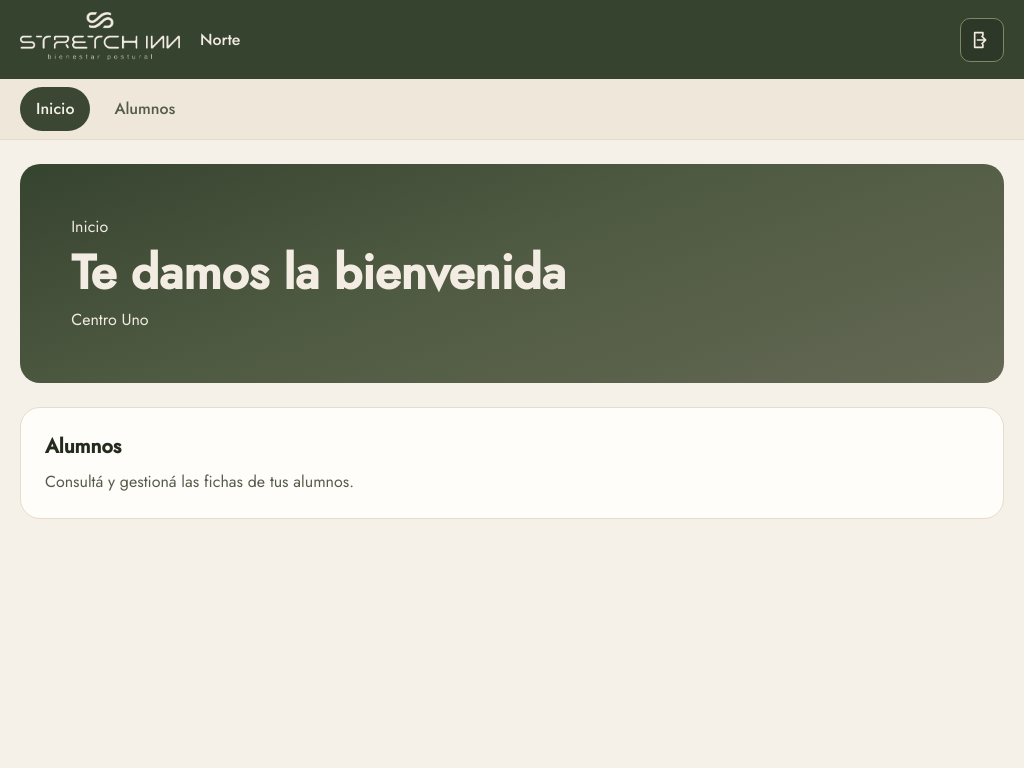
Test: lista › quien edita sin personas.dar-de-baja tiene «Editar», sin «Dar de baja»
The width and height of the screenshot is (1024, 768).
Click the link "Alumnos": (145,109) x1=114 y1=97 x2=175 y2=120
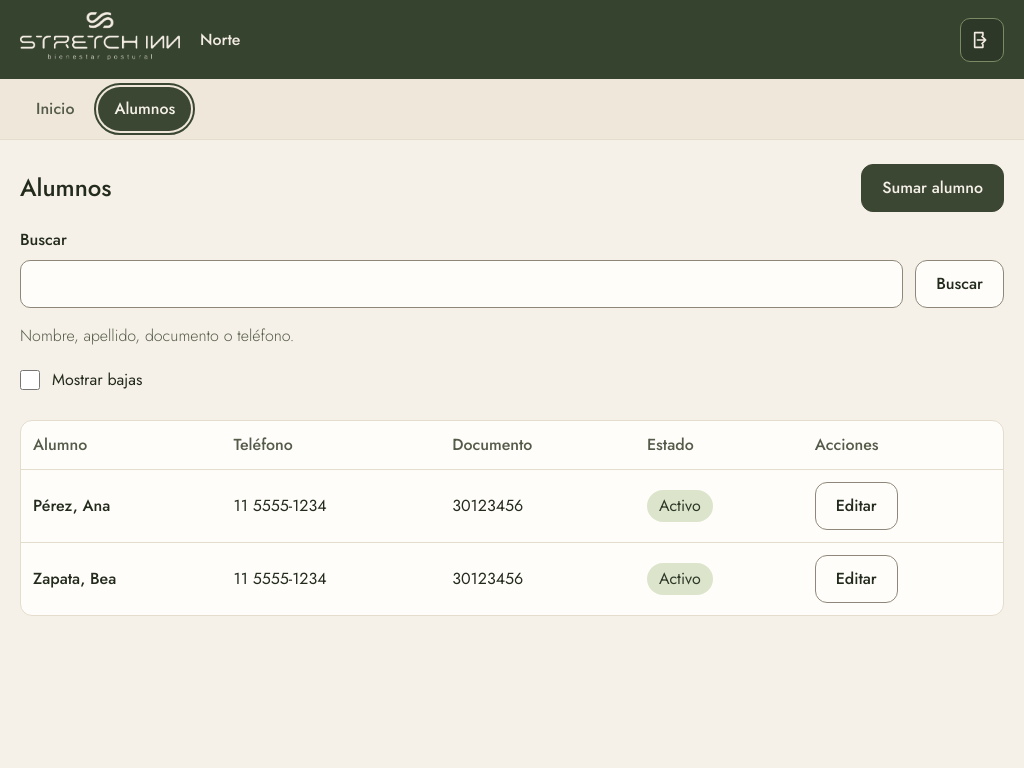
Expected: the heading "Alumnos" is shown, x1=20 y1=170 x2=111 y2=206
Expected: the buttons read "Editar", in this order, x1=815 y1=482 x2=898 y2=530
